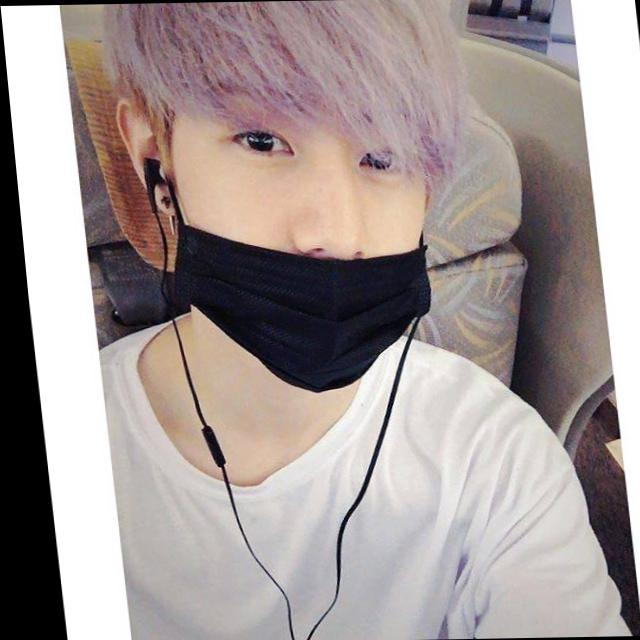WRONG: (140, 56, 508, 398)
